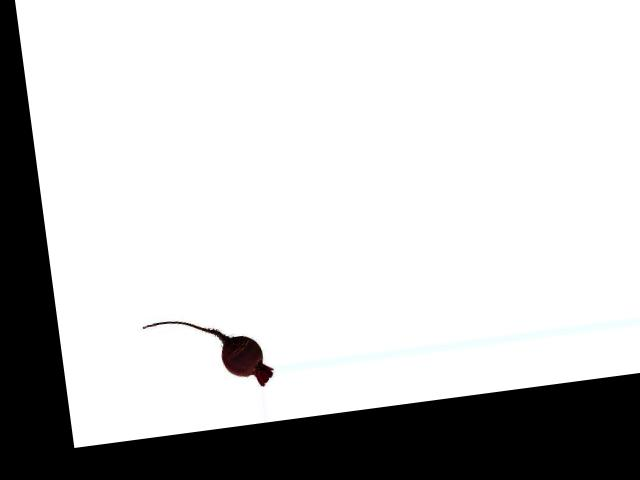beet: (141, 308, 274, 400)
